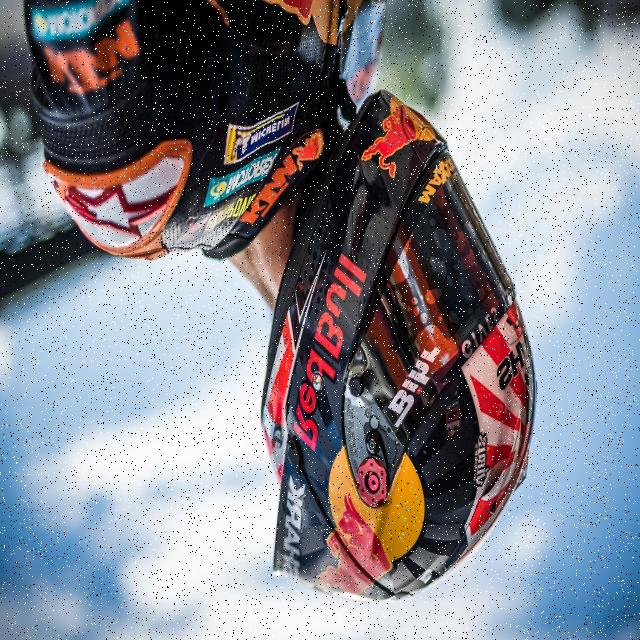Helmet: (235, 87, 538, 601)
